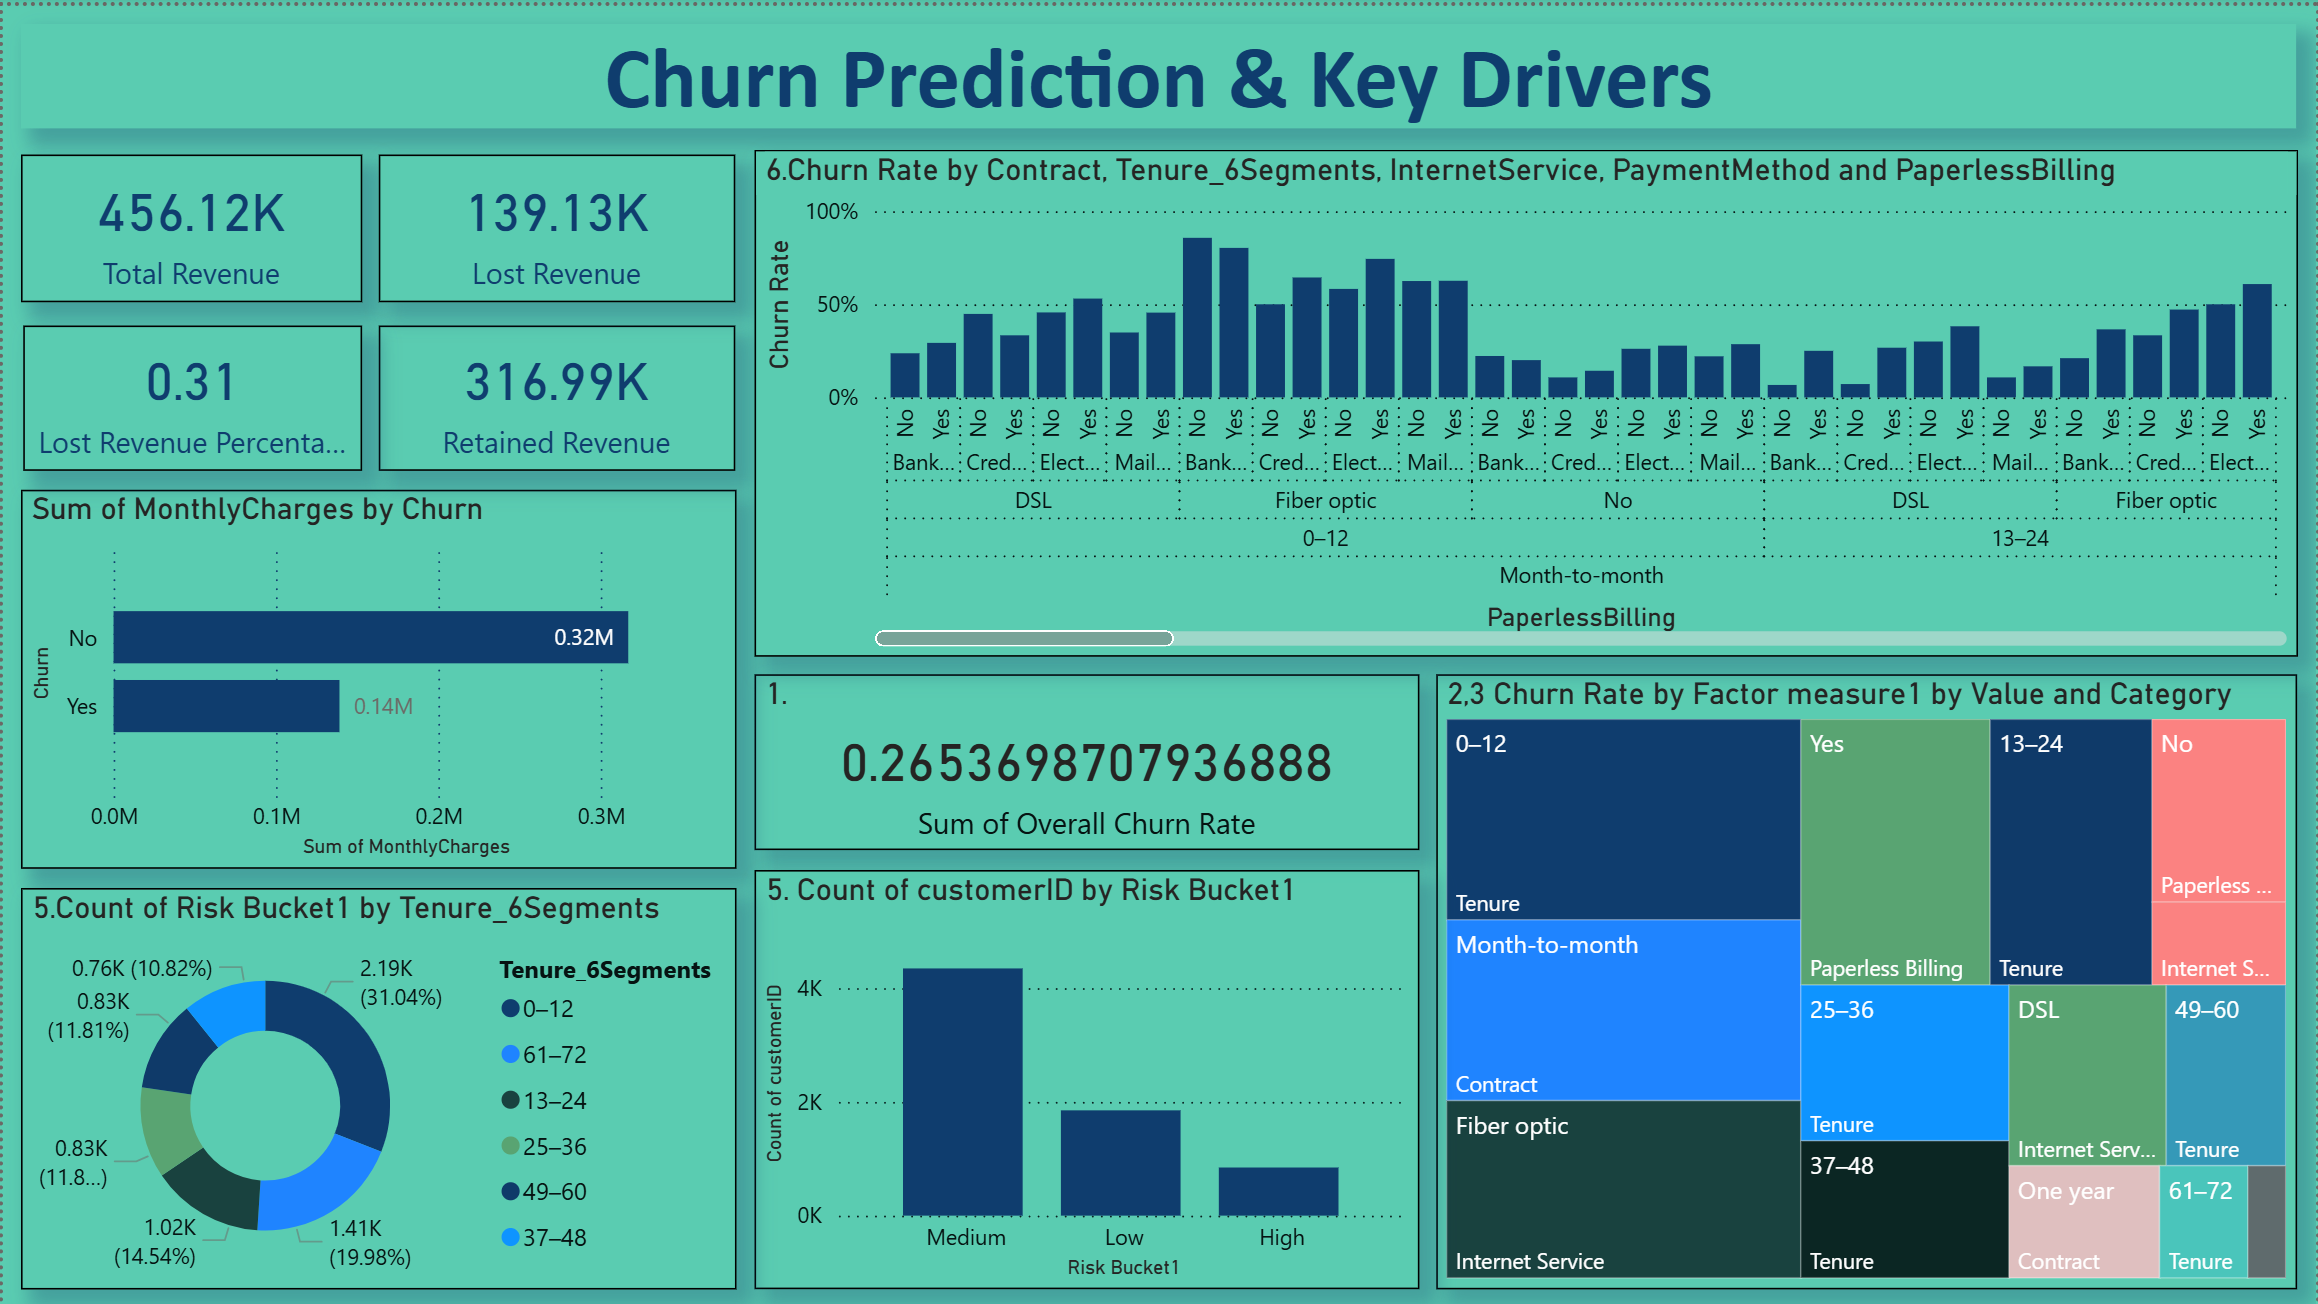

Layout of this report page (visuals, bound fields, positions):
{"tool":"powerbi","page":{"name":"Page 4","canvas":[1280,720],"ordinal":3},"visuals":[{"type":"textbox","title":"Churn Prediction & Key Drivers","box":[10,10,1259.2,57.7],"z":0},{"type":"card","title":"1. Overall Churn Rate","fields":{"Values":["Sum(WA_Fn-UseC_-Telco-Customer-Churn.Overall Churn Rate)"]},"box":[415.3,369.4,368.1,97.2],"z":1000},{"type":"treemap","title":"2.3. Key Churn Drivers","fields":{"Group":["ChurnFactorsSummary.Value"],"Details":["ChurnFactorsSummary.Category"],"Values":["ChurnFactorsSummary.Churn Rate by Factor measure1"]},"box":[793.1,369.4,476.4,340.3],"z":2000},{"type":"clusteredBarChart","title":"4. Lost Revenue Impact","fields":{"Category":["WA_Fn-UseC_-Telco-Customer-Churn.Churn"],"Y":["Sum(WA_Fn-UseC_-Telco-Customer-Churn.MonthlyCharges)"]},"box":[9.7,268.1,395.8,209.7],"z":3000},{"type":"card","fields":{"Values":["WA_Fn-UseC_-Telco-Customer-Churn.Total Revenue"]},"box":[9.7,81.9,188.9,81.9],"z":4000},{"type":"card","fields":{"Values":["WA_Fn-UseC_-Telco-Customer-Churn.Retained Revenue"]},"box":[208.3,176.4,197.2,80.6],"z":5000},{"type":"card","fields":{"Values":["WA_Fn-UseC_-Telco-Customer-Churn.Lost Revenue"]},"box":[208.3,81.9,197.2,81.9],"z":6000},{"type":"card","fields":{"Values":["WA_Fn-UseC_-Telco-Customer-Churn.Lost Revenue Percentage"]},"box":[11.1,176.4,187.5,80.6],"z":7000},{"type":"clusteredColumnChart","title":"5. Churn Risk Buckets","fields":{"Category":["WA_Fn-UseC_-Telco-Customer-Churn.Risk Bucket1"],"Y":["CountNonNull(WA_Fn-UseC_-Telco-Customer-Churn.customerID)"]},"box":[415.3,477.8,368.1,231.9],"z":8000},{"type":"donutChart","title":"5. Churn Risk Buckets Over Tenures","fields":{"Category":["WA_Fn-UseC_-Telco-Customer-Churn.Tenure_6Segments"],"Y":["CountNonNull(WA_Fn-UseC_-Telco-Customer-Churn.Risk Bucket1)"]},"box":[9.7,487.5,395.8,222.2],"z":9000},{"type":"columnChart","title":"6. Churn Heavy Segments","fields":{"Category":["WA_Fn-UseC_-Telco-Customer-Churn.Contract","WA_Fn-UseC_-Telco-Customer-Churn.Tenure_6Segments","WA_Fn-UseC_-Telco-Customer-Churn.InternetService","WA_Fn-UseC_-Telco-Customer-Churn.PaymentMethod","WA_Fn-UseC_-Telco-Customer-Churn.PaperlessBilling"],"Y":["WA_Fn-UseC_-Telco-Customer-Churn.Churn Rate"]},"box":[415.9,77.2,853,282.7],"z":10000}]}

Visuals, with their boxes in screenshot pixels (x1, y1, x2, y2), scaled from the page's 1280x720 canvas onto the 2318x1304 screenshot:
"Churn Prediction & Key Drivers" textbox: <bbox>18, 18, 2298, 123</bbox>
"1. Overall Churn Rate" card: <bbox>752, 669, 1419, 845</bbox>
"2.3. Key Churn Drivers" treemap: <bbox>1436, 669, 2299, 1285</bbox>
"4. Lost Revenue Impact" clusteredBarChart: <bbox>18, 486, 734, 865</bbox>
card - WA_Fn-UseC_-Telco-Customer-Churn.Total Revenue: <bbox>18, 148, 360, 297</bbox>
card - WA_Fn-UseC_-Telco-Customer-Churn.Retained Revenue: <bbox>377, 319, 734, 465</bbox>
card - WA_Fn-UseC_-Telco-Customer-Churn.Lost Revenue: <bbox>377, 148, 734, 297</bbox>
card - WA_Fn-UseC_-Telco-Customer-Churn.Lost Revenue Percentage: <bbox>20, 319, 360, 465</bbox>
"5. Churn Risk Buckets" clusteredColumnChart: <bbox>752, 865, 1419, 1285</bbox>
"5. Churn Risk Buckets Over Tenures" donutChart: <bbox>18, 883, 734, 1285</bbox>
"6. Churn Heavy Segments" columnChart: <bbox>753, 140, 2298, 652</bbox>
